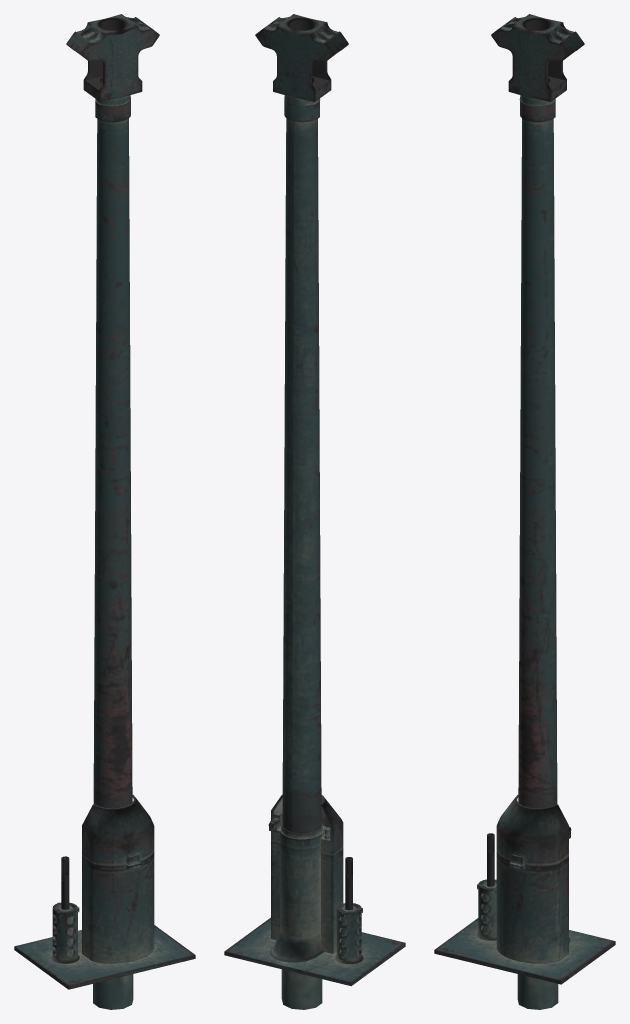
The model's file is Gun_03.glb.
3 renders of one model, left to right at view 1: azimuth 30°, elevation 25°; view 2: azimuth 150°, elevation 25°; view 3: azimuth 330°, elevation 25°, orthographic.
Visible parts, largest first — view 1: set_0_group_0; view 2: set_0_group_0; view 3: set_0_group_0.
Part boxes in pixels (<box>): set_0_group_0: <box>14,14,195,1009</box>; set_0_group_0: <box>224,14,405,1009</box>; set_0_group_0: <box>434,14,615,1009</box>.
Size of the model in its own units: 0.541 by 3.97 by 0.4003.
1 material, 1 textured.
